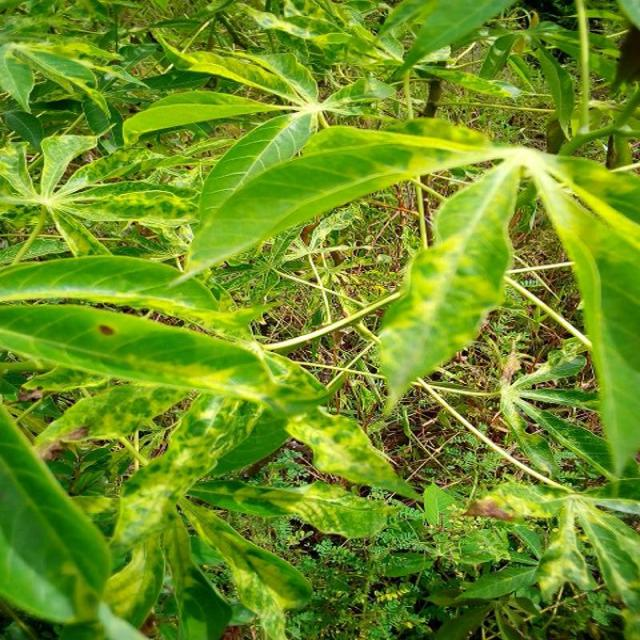cassava leaf: (2, 1, 640, 637), (182, 111, 499, 282), (376, 155, 523, 418)
